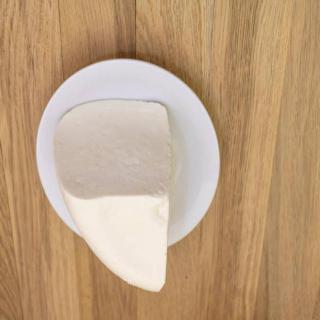Tahu: (41, 82, 187, 309)
